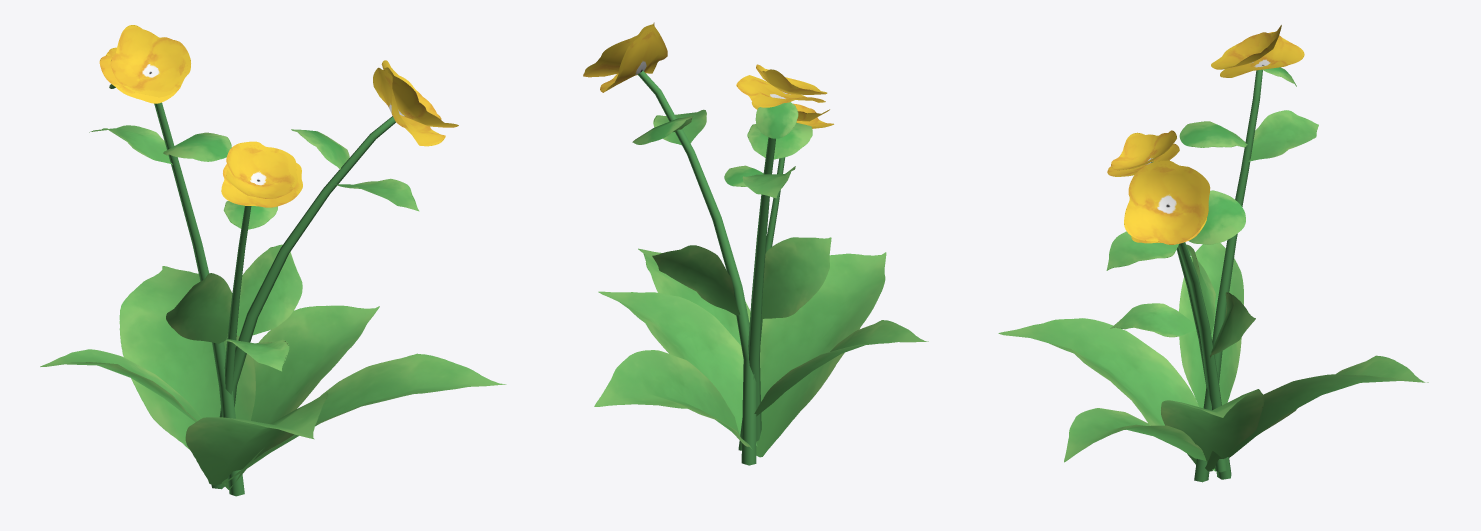
Rendered from SM_flower_daffodil.fbx.
3 views of the same model, side by side, from view 1: azimuth 30°, elevation 25°; view 2: azimuth 150°, elevation 25°; view 3: azimuth 270°, elevation 25° (orthographic). The views are drawn at different scales.
Parts seen in each view (by area): view 1: Object32330; view 2: Object32330; view 3: Object32330.
Boxes of the visible parts, x1=… form: Object32330: x1=40, y1=25, x2=506, y2=496; Object32330: x1=583, y1=22, x2=928, y2=465; Object32330: x1=998, y1=25, x2=1428, y2=482.
Bounding box in the file's own units: 26.06 × 27.72 × 26.36.
